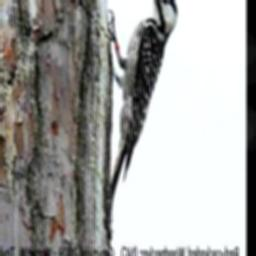Woodpecker: (105, 0, 179, 223)
